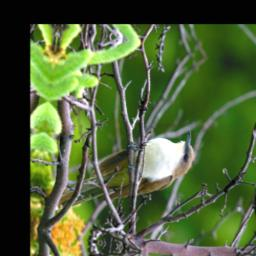Cuckoo: (54, 108, 198, 241)
